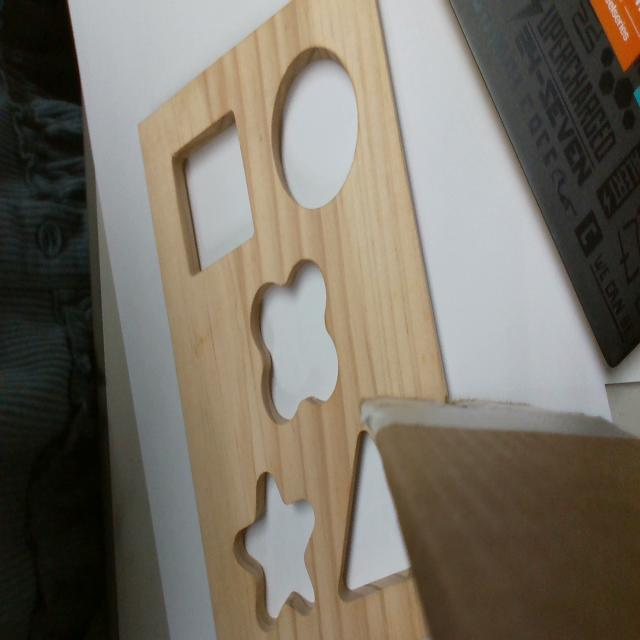circle: (273, 45, 359, 207)
flower: (249, 256, 338, 426)
square: (171, 108, 258, 280)
star: (233, 473, 315, 631)
triangle: (335, 426, 420, 606)
